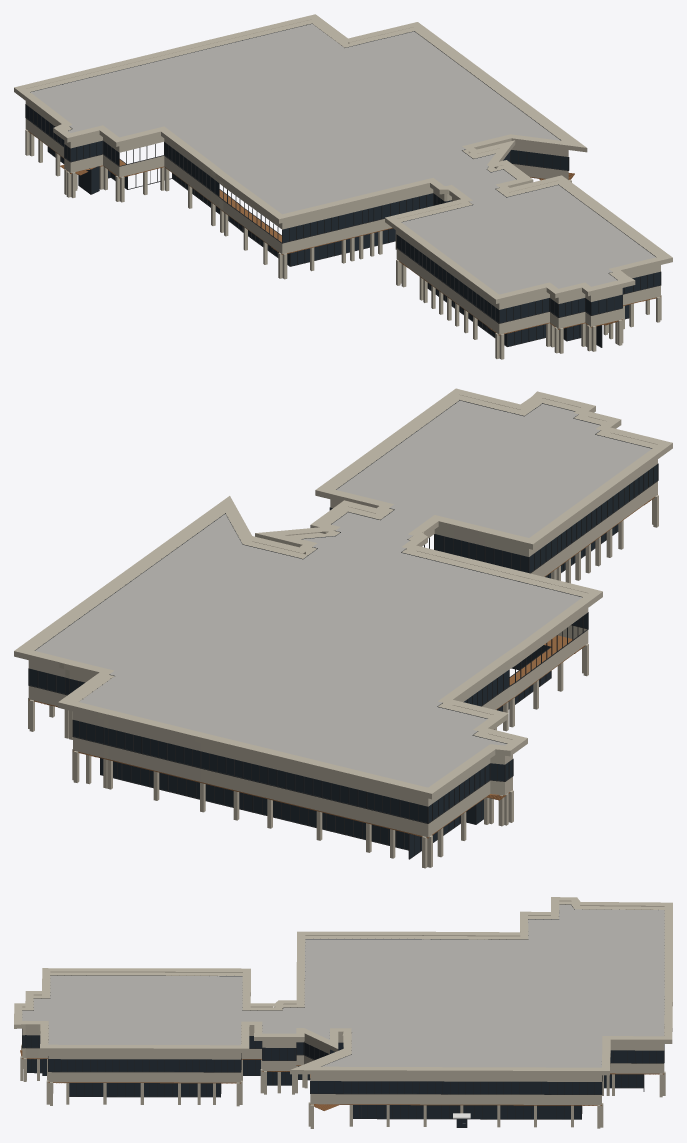
Rendered from student_union.glb.
3 renders of one model, top to bottom at view 1: azimuth 30°, elevation 25°; view 2: azimuth 150°, elevation 25°; view 3: azimuth 270°, elevation 25°, orthographic. The views are drawn at different scales.
Visible parts, largest first — view 1: student_union_Roof_Membrane, student_union_Wall_tanAggregate, student_union_Glass_dark, student_union_Frame_Dark, student_union_Wood_Soffit; view 2: student_union_Roof_Membrane, student_union_Wall_tanAggregate, student_union_Glass_dark, student_union_Frame_Dark, student_union_Wood_Soffit; view 3: student_union_Roof_Membrane, student_union_Wall_tanAggregate, student_union_Glass_dark, student_union_Frame_Dark, student_union_Wood_Soffit.
Part boxes in pixels (bbox=[...]): student_union_Roof_Membrane: bbox=[31, 24, 655, 294]; student_union_Wall_tanAggregate: bbox=[14, 14, 672, 359]; student_union_Glass_dark: bbox=[26, 23, 660, 347]; student_union_Frame_Dark: bbox=[25, 24, 661, 347]; student_union_Wood_Soffit: bbox=[26, 129, 660, 335]; student_union_Roof_Membrane: bbox=[35, 400, 651, 787]; student_union_Wall_tanAggregate: bbox=[14, 388, 672, 868]; student_union_Glass_dark: bbox=[29, 400, 657, 858]; student_union_Frame_Dark: bbox=[28, 400, 658, 859]; student_union_Wood_Soffit: bbox=[29, 494, 657, 838]; student_union_Roof_Membrane: bbox=[22, 905, 664, 1067]; student_union_Wall_tanAggregate: bbox=[14, 897, 672, 1128]; student_union_Glass_dark: bbox=[22, 904, 663, 1127]; student_union_Frame_Dark: bbox=[22, 904, 664, 1127]; student_union_Wood_Soffit: bbox=[20, 1050, 663, 1110].
Size of the model in its own units: 81.63 by 13.14 by 129.
